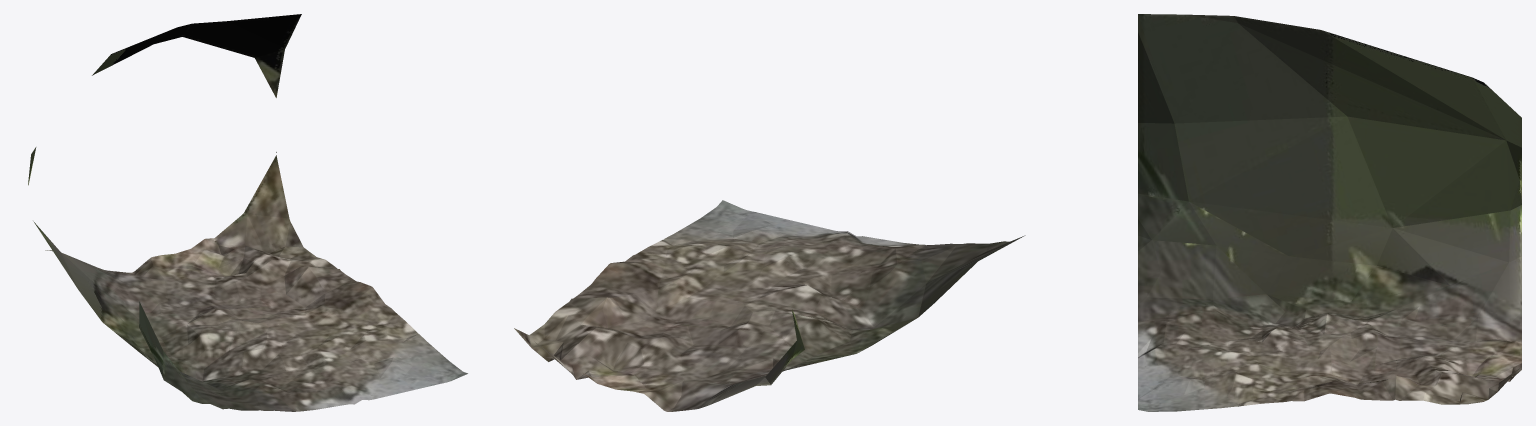
3 renders of one model, left to right at view 1: azimuth 30°, elevation 25°; view 2: azimuth 150°, elevation 25°; view 3: azimuth 270°, elevation 25°, orthographic. The views are drawn at different scales.
Bounding box in the file's own units: 5.84 × 4.19 × 5.9.
4 materials, 4 textured.
